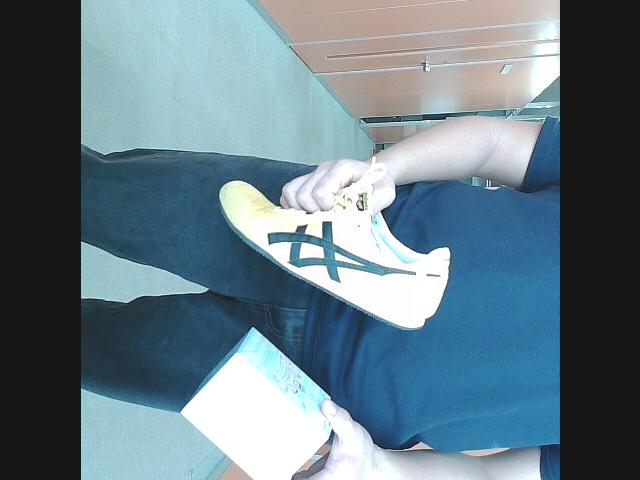Blind_box: (177, 328, 342, 480)
Shoes: (215, 177, 450, 330)
